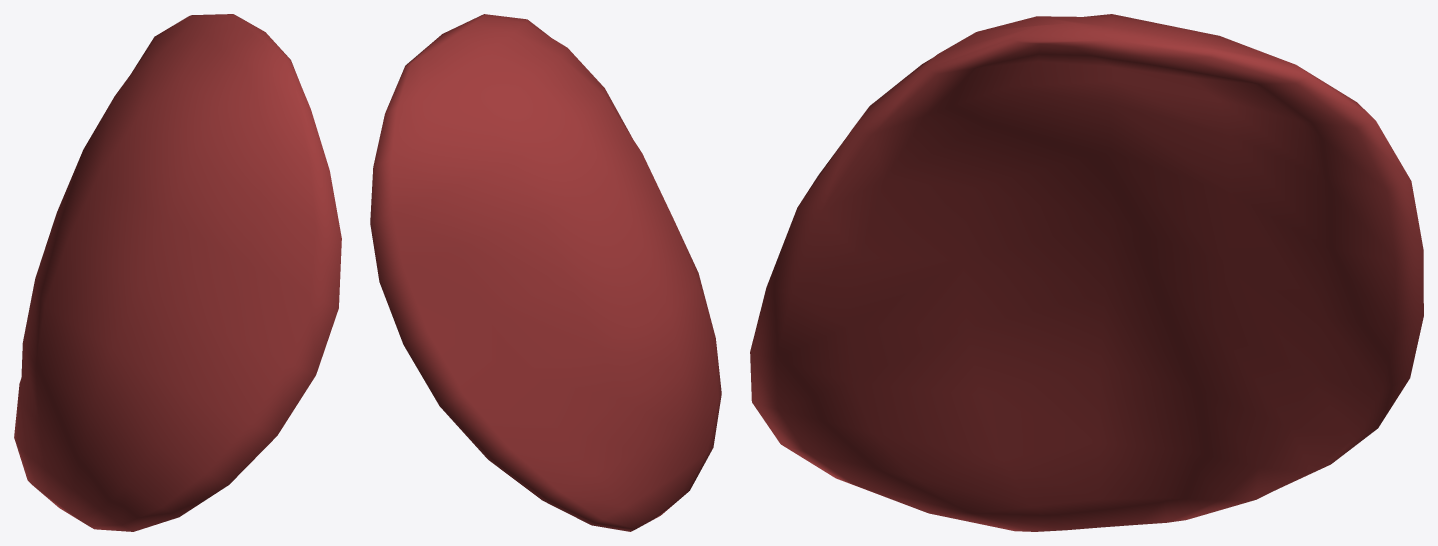
The model's file is trochanteric-bursa-of-gluteus-minimus-muscle-r.glb.
3 renders of one model, left to right at view 1: azimuth 30°, elevation 25°; view 2: azimuth 150°, elevation 25°; view 3: azimuth 270°, elevation 25°, orthographic. The views are drawn at different scales.
Parts seen in each view (by area): view 1: Trochanteric bursa of gluteus minimus muscle.r; view 2: Trochanteric bursa of gluteus minimus muscle.r; view 3: Trochanteric bursa of gluteus minimus muscle.r.
Boxes of the visible parts, <box> form: Trochanteric bursa of gluteus minimus muscle.r: <box>14,14,341,531</box>; Trochanteric bursa of gluteus minimus muscle.r: <box>370,14,721,531</box>; Trochanteric bursa of gluteus minimus muscle.r: <box>750,14,1423,531</box>.
Size of the model in its own units: 0.0121 by 0.0207 by 0.0196.
